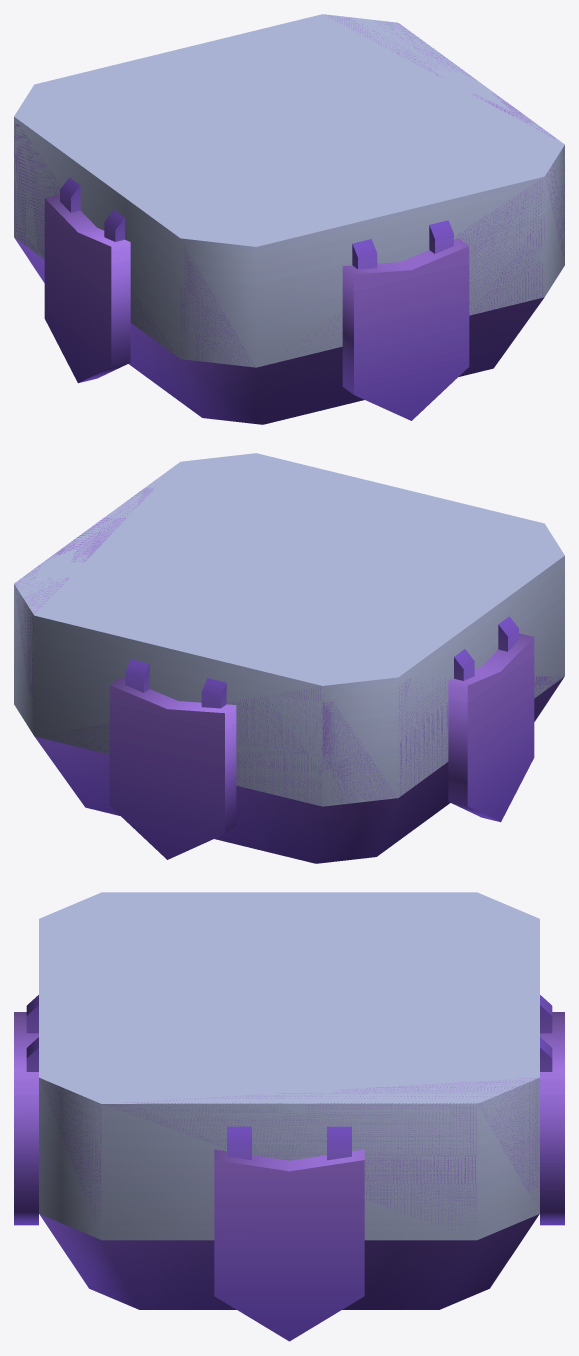
The model's file is tower-square-middle-a.glb.
3 renders of one model, top to bottom at view 1: azimuth 30°, elevation 25°; view 2: azimuth 150°, elevation 25°; view 3: azimuth 270°, elevation 25°, orthographic. The views are drawn at different scales.
Visible parts, largest first — view 1: tower-square-middle-a; view 2: tower-square-middle-a; view 3: tower-square-middle-a.
Boxes of the visible parts, x1,y1,x2,y2 form: tower-square-middle-a: [14, 14, 564, 424]; tower-square-middle-a: [14, 453, 564, 863]; tower-square-middle-a: [14, 892, 564, 1341].
Bounding box in the file's own units: 1.1 × 0.5 × 1.1.
Materials: 1 (1 with a texture image).
